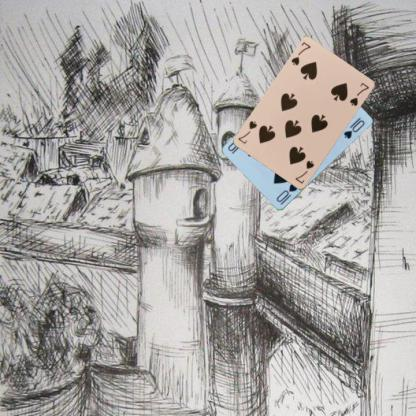10s: (274, 181, 298, 206)
7s: (288, 39, 312, 67), (292, 158, 315, 185)
